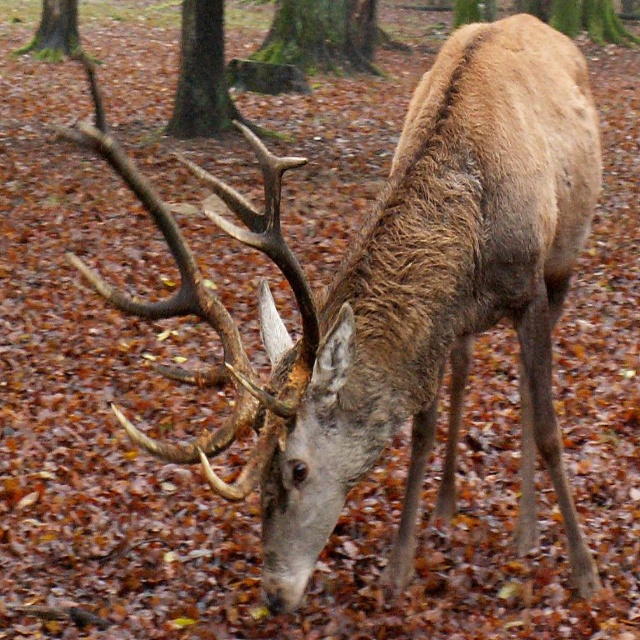Deer: (45, 14, 603, 617)
